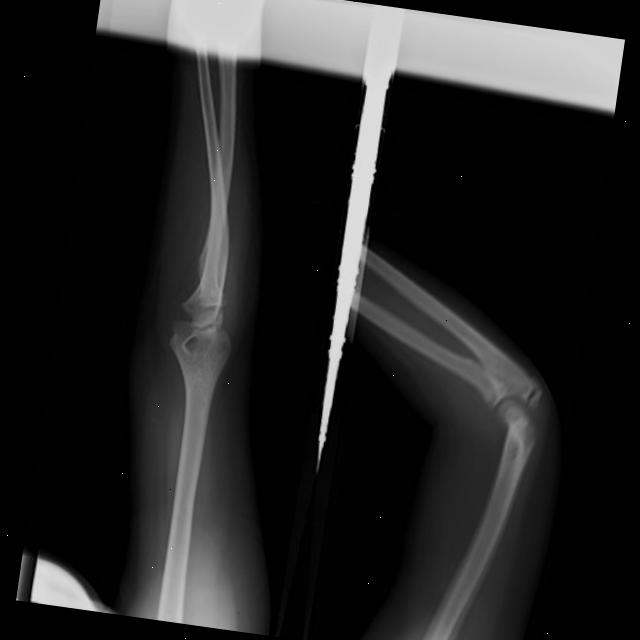Fracture: (522, 379, 544, 417)
